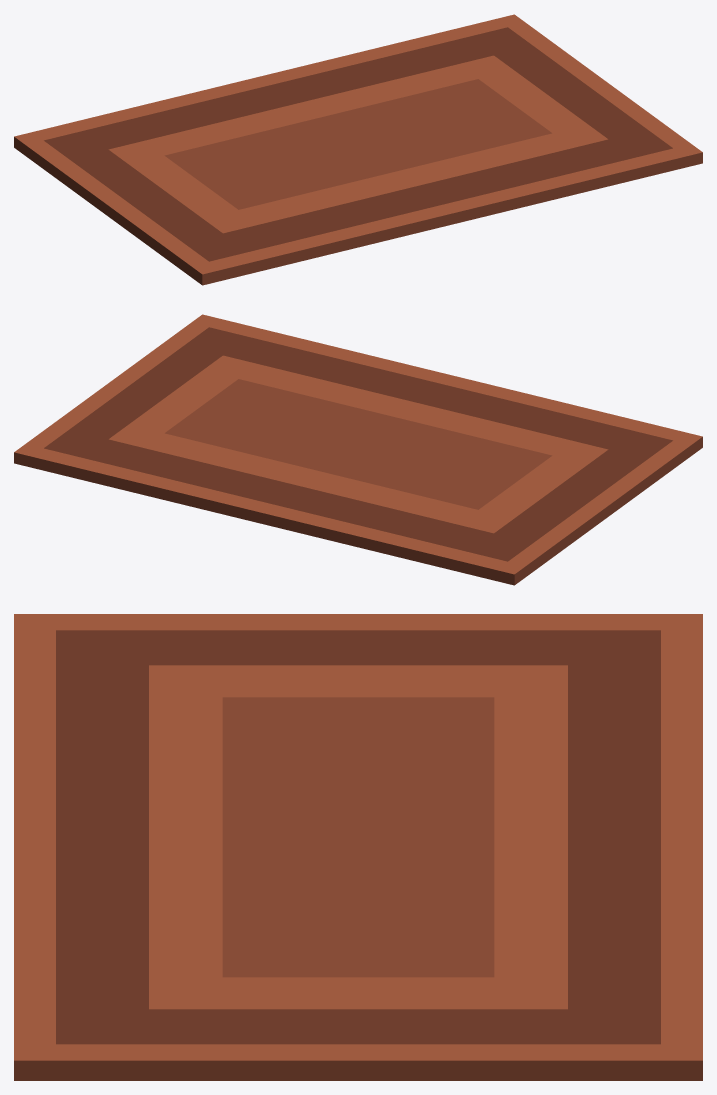
The model's file is SO_Rug_02.fbx.
3 views of the same model, one above another, from view 1: azimuth 30°, elevation 25°; view 2: azimuth 150°, elevation 25°; view 3: azimuth 270°, elevation 25° (orthographic). The views are drawn at different scales.
Parts seen in each view (by area): view 1: SO_Rug_02; view 2: SO_Rug_02; view 3: SO_Rug_02.
Boxes of the visible parts, box(x1,y1,x2,y2) form: SO_Rug_02: box(14, 14, 702, 285); SO_Rug_02: box(14, 314, 702, 585); SO_Rug_02: box(14, 614, 702, 1080).
Bounding box in the file's own units: 4.79 × 0.1012 × 3.13.
